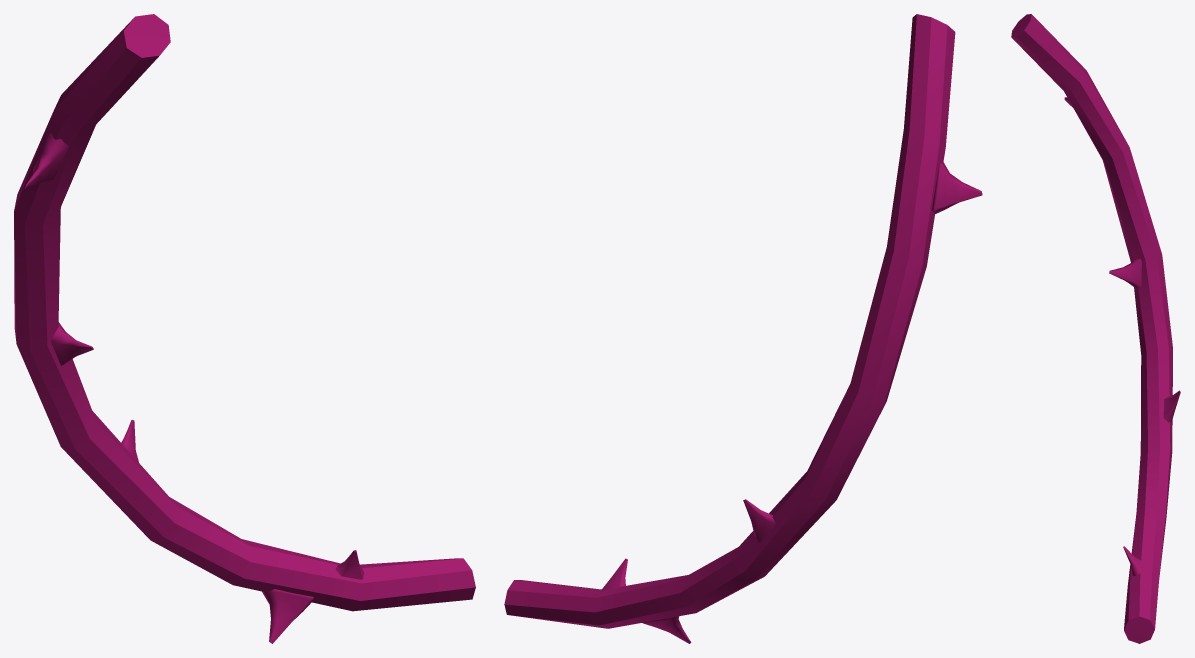
The model's file is N_Brambles_04.fbx.
The picture shows the model from 3 angles, left to right: view 1: azimuth 30°, elevation 25°; view 2: azimuth 150°, elevation 25°; view 3: azimuth 270°, elevation 25°; orthographic projection. The views are drawn at different scales.
Visible parts, largest first — view 1: N_Brambles_04; view 2: N_Brambles_04; view 3: N_Brambles_04.
Part boxes in pixels (left/top/right/bottom): N_Brambles_04: left=14, top=14, right=475, bottom=643; N_Brambles_04: left=504, top=14, right=982, bottom=643; N_Brambles_04: left=1011, top=14, right=1180, bottom=643.
Bounding box in the file's own units: 12.01 × 17.2 × 5.32.
